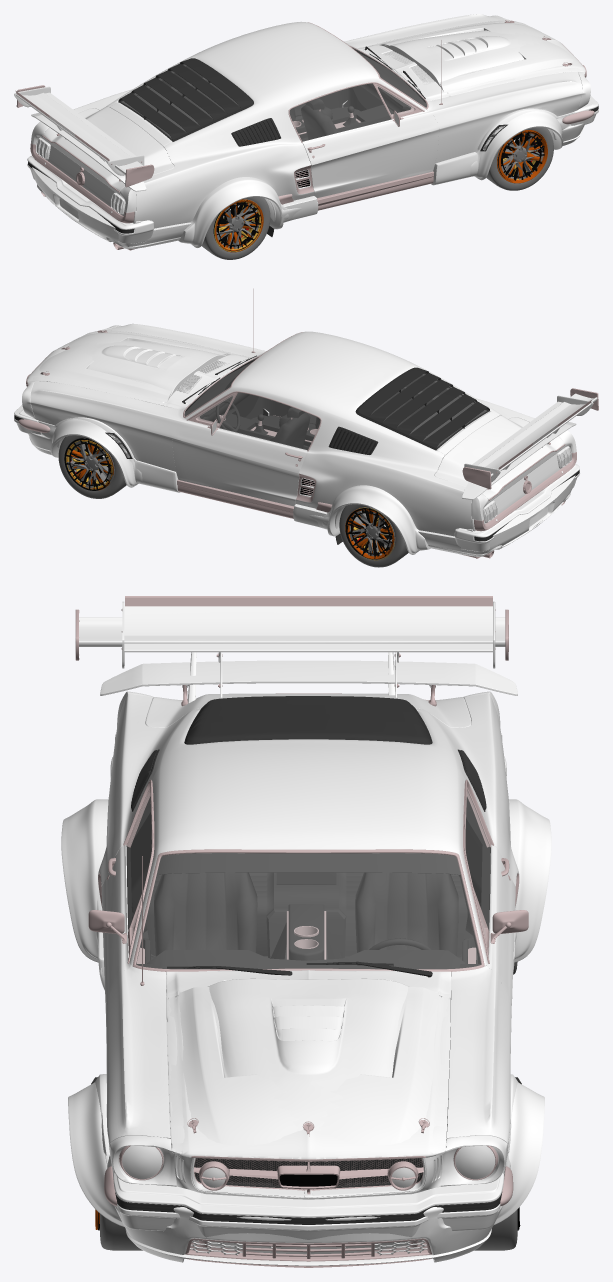
Rendered from musclecar.glb.
The picture shows the model from 3 angles, top to bottom: view 1: azimuth 30°, elevation 25°; view 2: azimuth 150°, elevation 25°; view 3: azimuth 270°, elevation 25°; orthographic projection. The views are drawn at different scales.
Parts seen in each view (by area): view 1: Body, Hood_C, Interior, Hood_A, Fender_B, RearBumper_B, Spoiler_C, Fender_C, RearBumper_C, Spoiler_A, Tire_BR, Tire_FR (+14 smaller); view 2: Body, Hood_C, Interior, Hood_A, Fender_B, RearBumper_B, Spoiler_C, Fender_C, RearBumper_C, Spoiler_A, Tire_BL, Tire_FL (+12 smaller); view 3: Body, Interior, Hood_C, Hood_A, Spoiler_C, Fender_B, FrontBumper_C, FrontBumper_B, Spoiler_B, Hood_B, Spoiler_A, FrontBumper_A (+3 smaller).
Part boxes in pixels (bbox=[...]): Body: bbox=[30, 14, 590, 228]; Hood_C: bbox=[355, 20, 585, 102]; Interior: bbox=[121, 47, 426, 141]; Hood_A: bbox=[363, 20, 585, 100]; Fender_B: bbox=[178, 111, 563, 247]; RearBumper_B: bbox=[32, 167, 190, 249]; Spoiler_C: bbox=[14, 86, 144, 175]; Fender_C: bbox=[264, 108, 557, 221]; RearBumper_C: bbox=[27, 155, 153, 243]; Spoiler_A: bbox=[16, 85, 154, 187]; Tire_BR: bbox=[202, 197, 270, 259]; Tire_FR: bbox=[486, 127, 553, 190]; Body: bbox=[22, 288, 576, 536]; Hood_C: bbox=[27, 330, 254, 411]; Interior: bbox=[184, 357, 486, 450]; Hood_A: bbox=[32, 330, 249, 409]; Fender_B: bbox=[50, 419, 430, 554]; RearBumper_B: bbox=[418, 475, 575, 556]; Spoiler_C: bbox=[464, 395, 593, 482]; Fender_C: bbox=[57, 417, 345, 528]; RearBumper_C: bbox=[454, 464, 579, 551]; Spoiler_A: bbox=[462, 388, 598, 489]; Tire_BL: bbox=[339, 504, 408, 567]; Tire_FL: bbox=[58, 435, 126, 498]; Body: bbox=[88, 691, 528, 1199]; Interior: bbox=[126, 796, 490, 998]; Hood_C: bbox=[167, 970, 450, 1160]; Hood_A: bbox=[166, 970, 451, 1161]; Spoiler_C: bbox=[121, 596, 495, 697]; Fender_B: bbox=[61, 799, 551, 1227]; FrontBumper_C: bbox=[113, 1173, 504, 1267]; FrontBumper_B: bbox=[107, 1154, 510, 1266]; Spoiler_B: bbox=[100, 660, 517, 706]; Hood_B: bbox=[166, 971, 450, 1161]; Spoiler_A: bbox=[75, 609, 508, 703]; FrontBumper_A: bbox=[104, 1166, 513, 1254].
Bounding box in the file's own units: 4.89 × 1.49 × 2.07.
